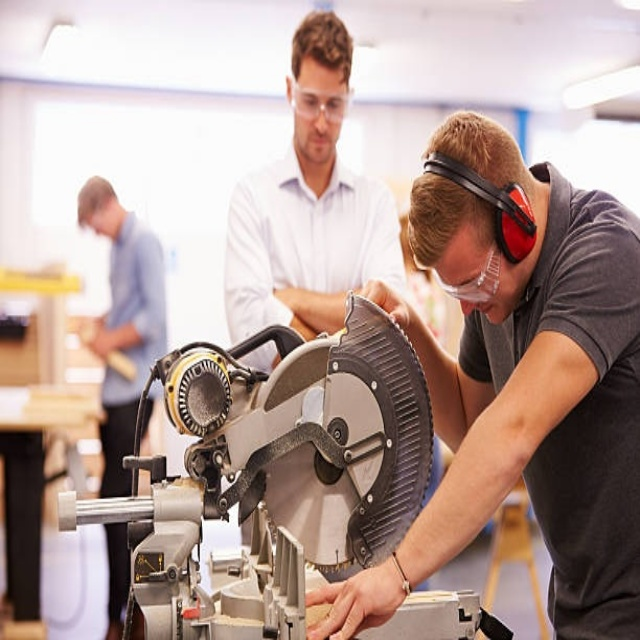Gafas: (433, 239, 502, 305), (291, 79, 353, 125)
Sin_guantes: (305, 555, 406, 640)
Sin_mascara: (462, 292, 506, 333), (302, 130, 334, 163)
